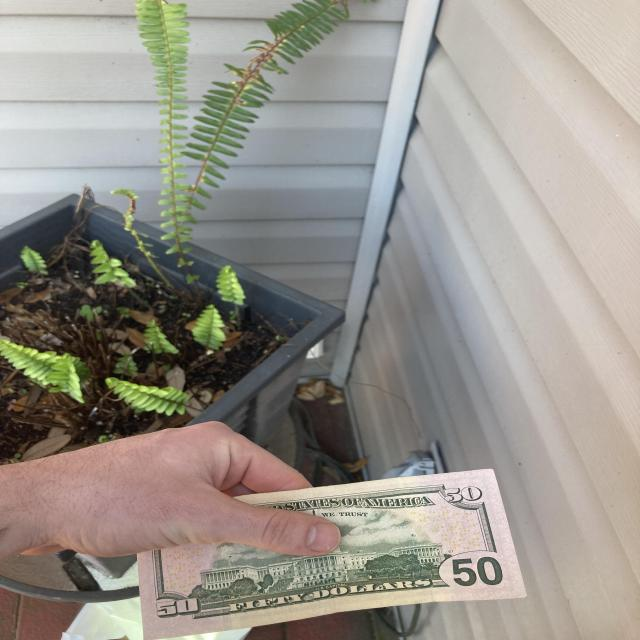fifty: (130, 464, 531, 640)
